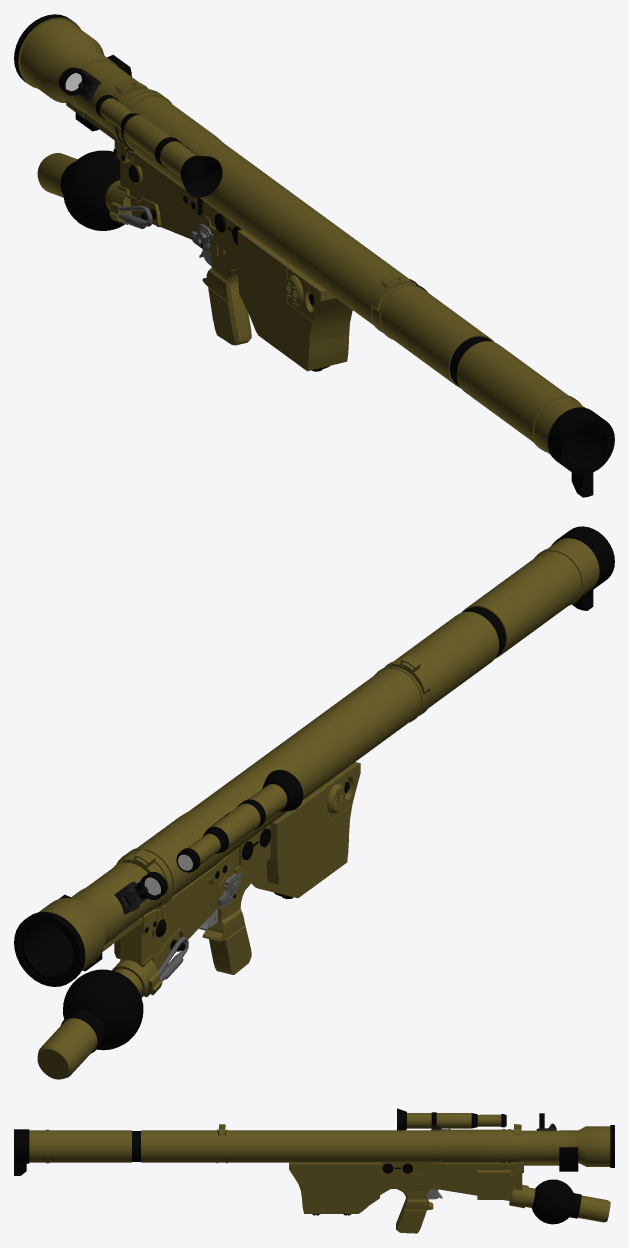
The picture shows the model from 3 angles, top to bottom: view 1: azimuth 30°, elevation 25°; view 2: azimuth 150°, elevation 25°; view 3: azimuth 270°, elevation 25°; orthographic projection. The views are drawn at different scales.
Parts seen in each view (by area): view 1: O_qw2__C652, O_qw2__C000, O_qw2__C555; view 2: O_qw2__C652, O_qw2__C000, O_qw2__C555; view 3: O_qw2__C652, O_qw2__C000.
Boxes of the visible parts, x1,y1,x2,y2 form: O_qw2__C652: [18, 17, 584, 454]; O_qw2__C000: [14, 14, 614, 497]; O_qw2__C555: [118, 205, 208, 247]; O_qw2__C652: [37, 538, 599, 1079]; O_qw2__C000: [14, 526, 614, 1053]; O_qw2__C555: [157, 877, 240, 981]; O_qw2__C652: [29, 1113, 610, 1233]; O_qw2__C000: [14, 1108, 614, 1224].
Bounding box in the file's own units: 0.4497 × 0.906 × 4.45.
